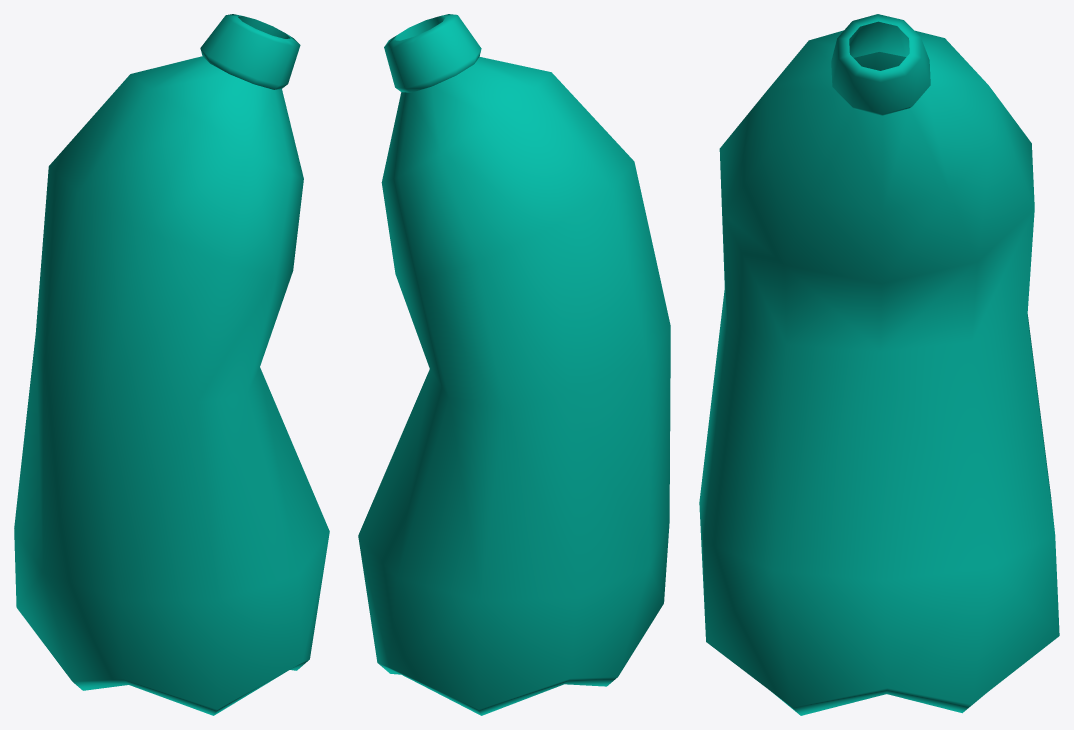
File: li_bottlePlastic01.fbx
3 renders of one model, left to right at view 1: azimuth 30°, elevation 25°; view 2: azimuth 150°, elevation 25°; view 3: azimuth 270°, elevation 25°, orthographic. The views are drawn at different scales.
Visible parts, largest first — view 1: li_bottlePlastic01; view 2: li_bottlePlastic01; view 3: li_bottlePlastic01.
Boxes of the visible parts, box(x1,y1,x2,y2) form: li_bottlePlastic01: box(14, 14, 329, 715); li_bottlePlastic01: box(358, 14, 670, 715); li_bottlePlastic01: box(699, 14, 1059, 715).
Size of the model in its own units: 8.08 by 17.95 by 8.54.
